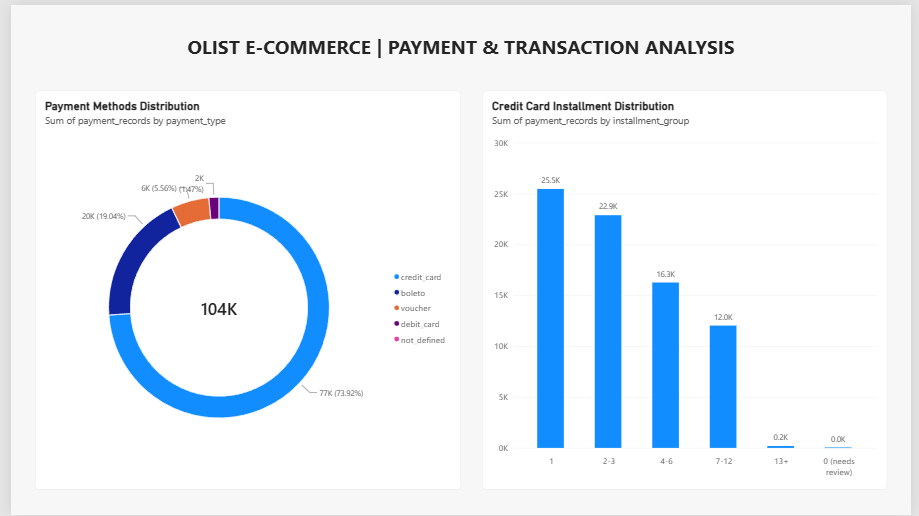

Layout of this report page (visuals, bound fields, positions):
{"tool":"powerbi","page":{"name":"Payment & Transaction Analysis","canvas":[1500,850],"ordinal":2},"visuals":[{"type":"textbox","box":[-210,47.5,1920,62.5],"z":0},{"type":"donutChart","title":"Payment Methods Distribution","fields":{"Category":["olist_ecommerce vw_olist_payment_methods.payment_type"],"Y":["Sum(olist_ecommerce vw_olist_payment_methods.payment_records)"]},"box":[40,142.5,710,665],"z":1000},{"type":"clusteredColumnChart","title":"Credit Card Installment Distribution","fields":{"Category":["olist_ecommerce vw_olist_credit_card_installments.installment_group"],"Y":["Sum(olist_ecommerce vw_olist_credit_card_installments.payment_records)"]},"box":[785,142.5,675,665],"z":2000}]}

Visuals, with their boxes in screenshot pixels (x1, y1, x2, y2), scaled from the page's 1500x850 canvas onto the 919x516 screenshot:
textbox: (0, 29, 918, 67)
"Payment Methods Distribution" donutChart: (25, 87, 460, 490)
"Credit Card Installment Distribution" clusteredColumnChart: (481, 87, 894, 490)
